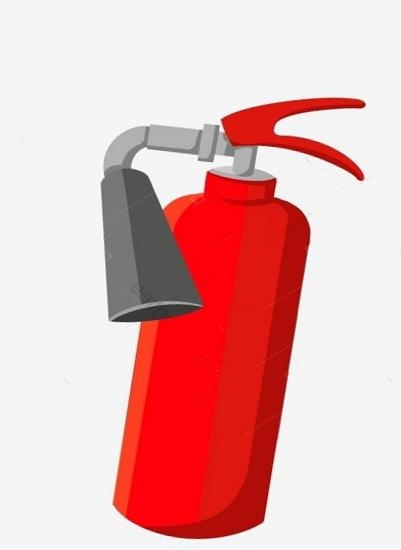fire_extinguisher: (100, 96, 366, 540)
